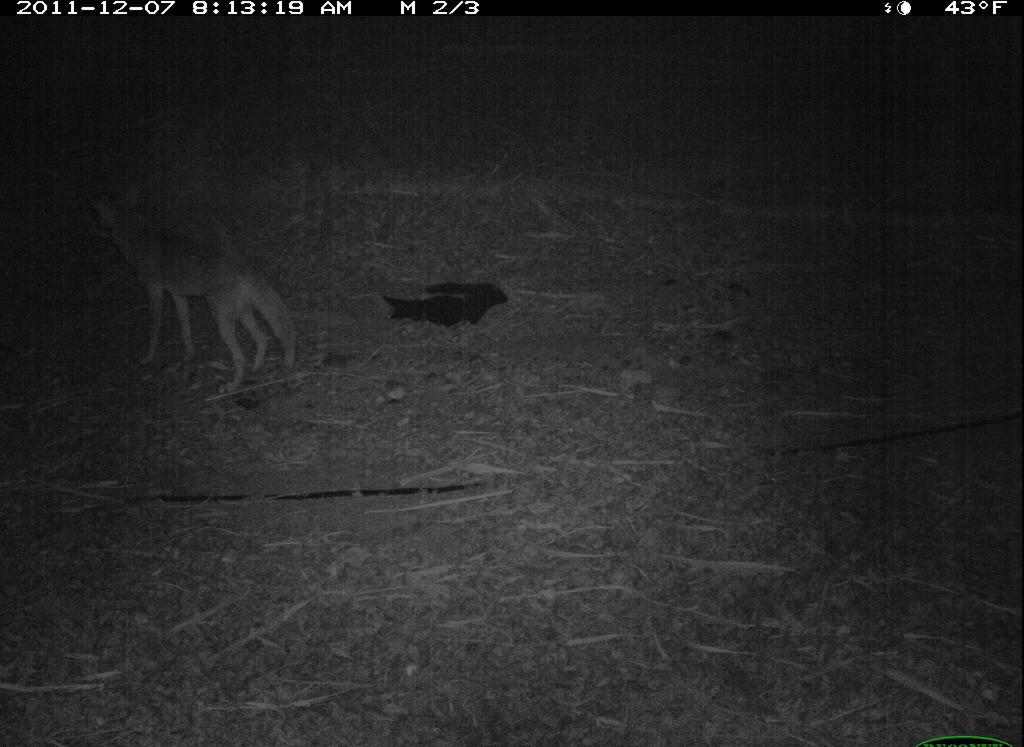coyote: (89, 187, 300, 399)
